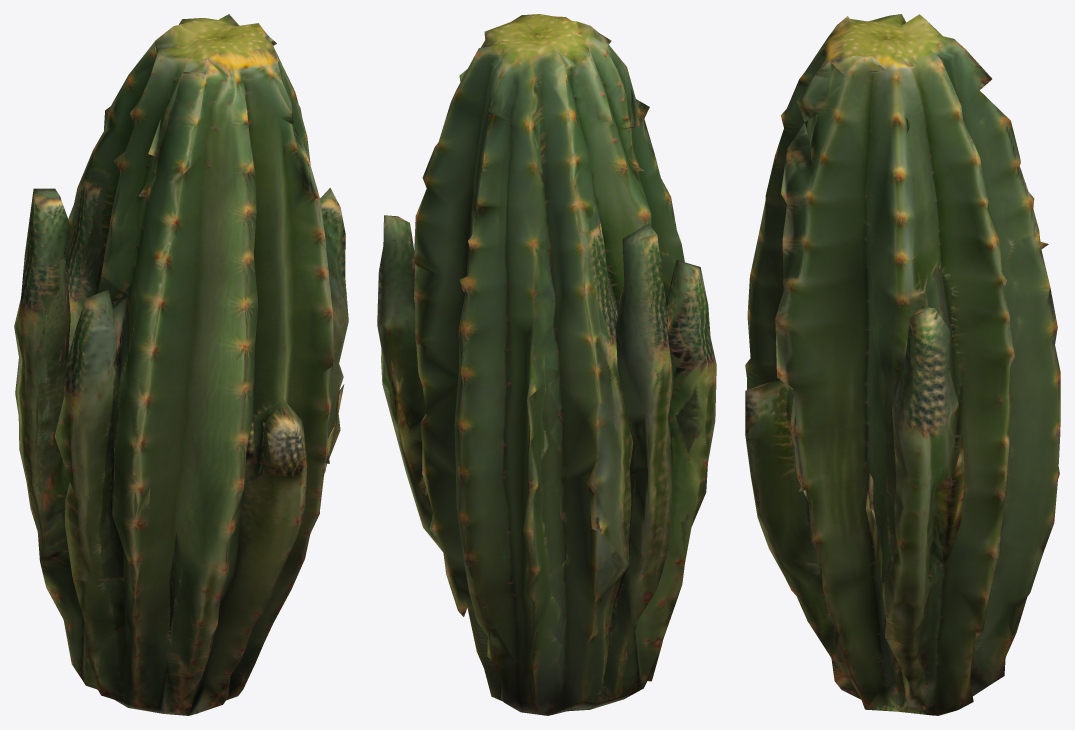
Rendered from desert_cactus_without_1120183757_texture.fbx.
The picture shows the model from 3 angles, left to right: view 1: azimuth 30°, elevation 25°; view 2: azimuth 150°, elevation 25°; view 3: azimuth 270°, elevation 25°; orthographic projection. The views are drawn at different scales.
Parts seen in each view (by area): view 1: Mesh1.0; view 2: Mesh1.0; view 3: Mesh1.0.
Boxes of the visible parts, x1,y1,x2,y2 form: Mesh1.0: (14, 14, 348, 715); Mesh1.0: (377, 14, 716, 715); Mesh1.0: (745, 14, 1060, 715).
Bounding box in the file's own units: 94.03 × 193 × 80.76.
1 material, 1 textured.
